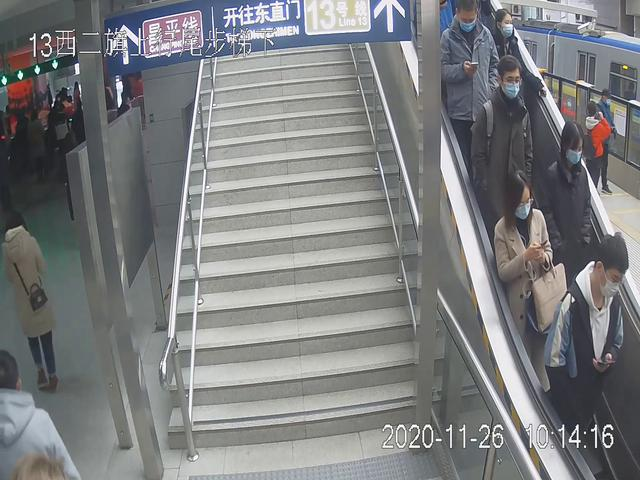person: (539, 232, 629, 479), (493, 166, 565, 401), (469, 52, 539, 252), (437, 1, 502, 168), (1, 211, 59, 398)
